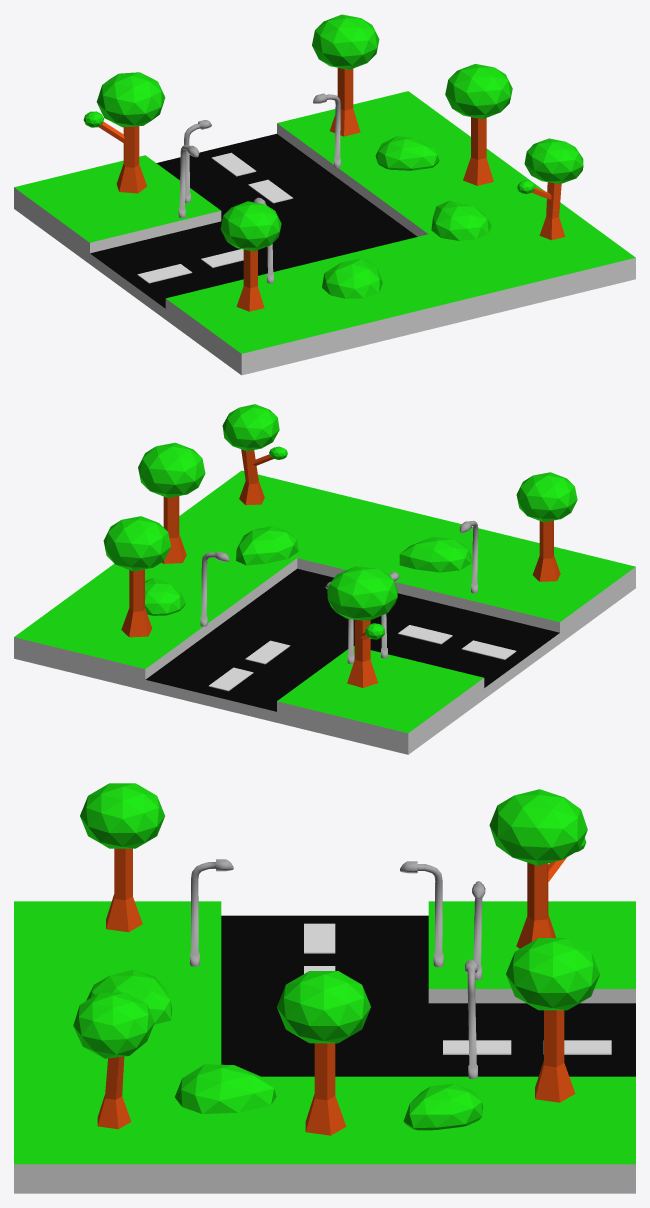
3 views of the same model, one above another, from view 1: azimuth 30°, elevation 25°; view 2: azimuth 150°, elevation 25°; view 3: azimuth 270°, elevation 25° (orthographic). The views are drawn at different scales.
Visible parts, largest first — view 1: Cube.010; view 2: Cube.010; view 3: Cube.010.
Boxes of the visible parts, bbox=[...] form: Cube.010: bbox=[14, 14, 635, 375]; Cube.010: bbox=[14, 404, 635, 754]; Cube.010: bbox=[14, 783, 635, 1193].
Size of the model in its own units: 200 by 67.42 by 200.
